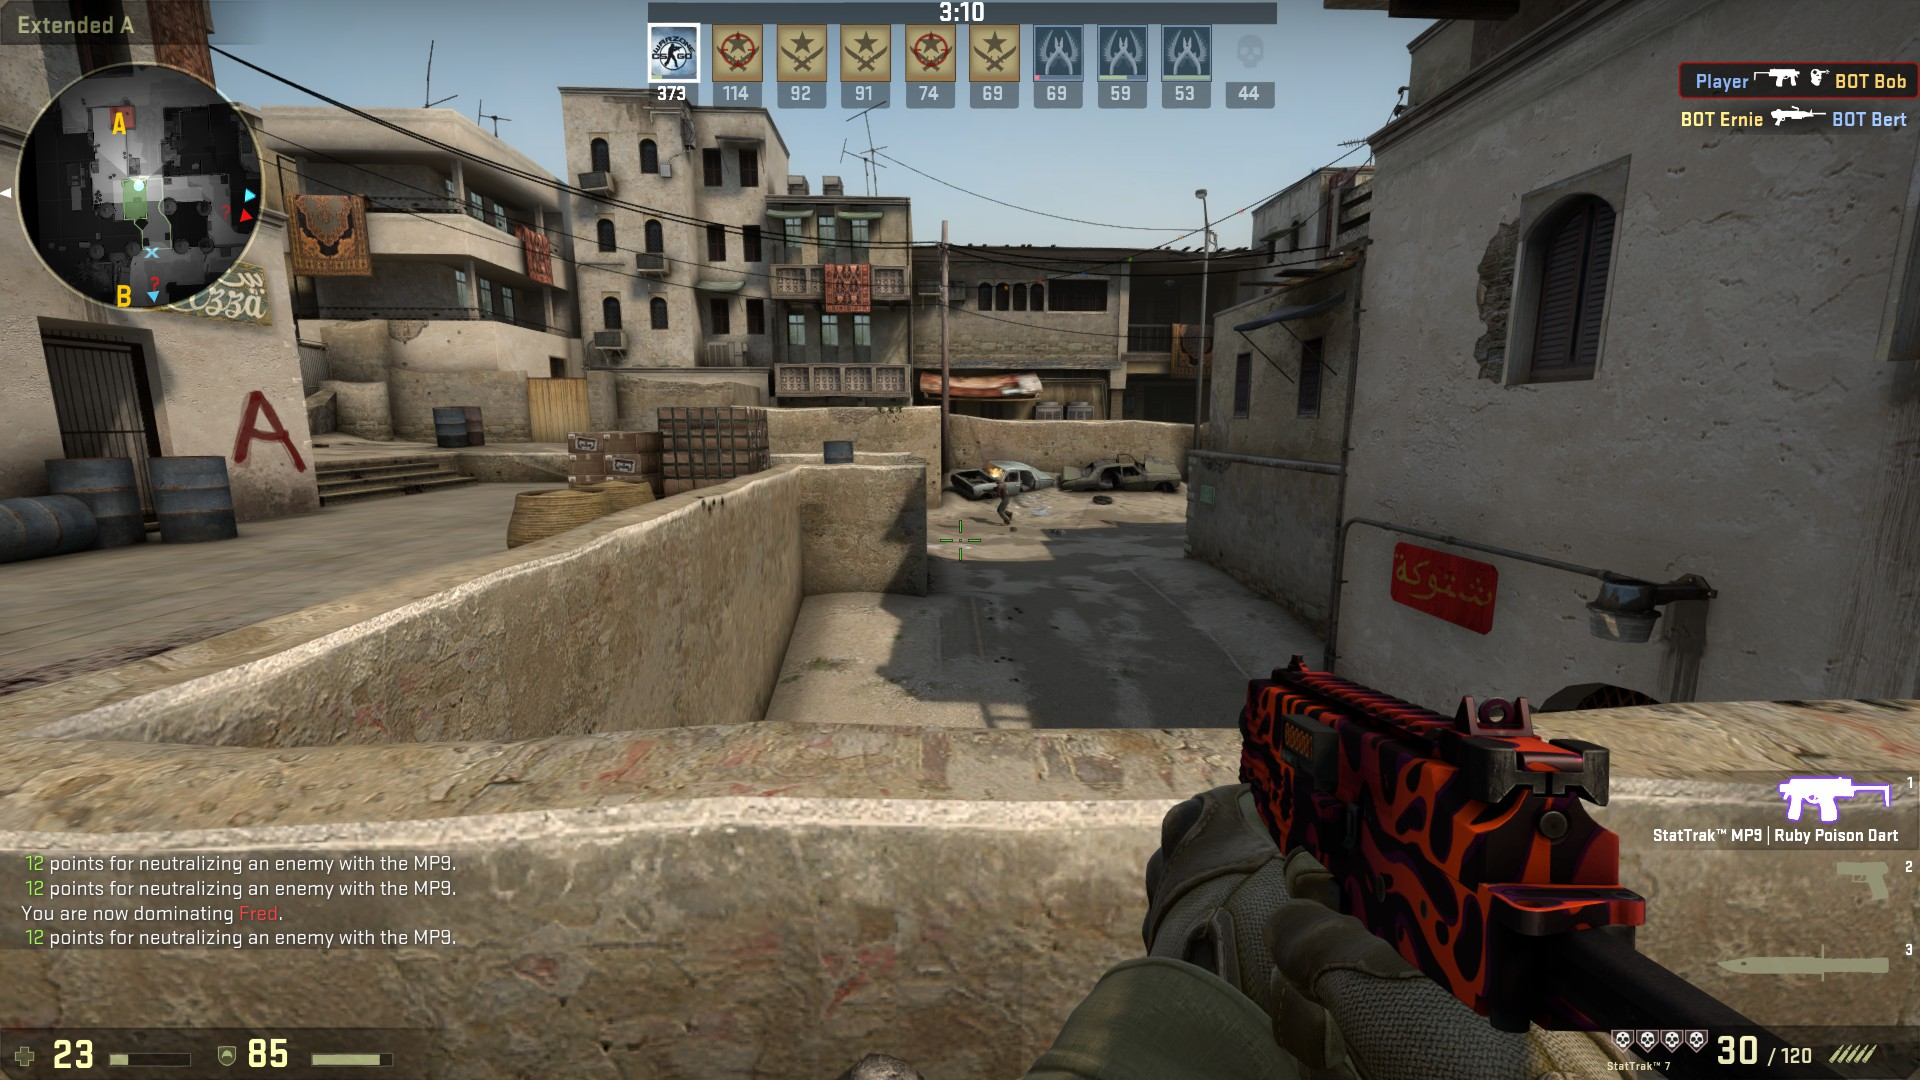t: (992, 475, 1014, 530)
